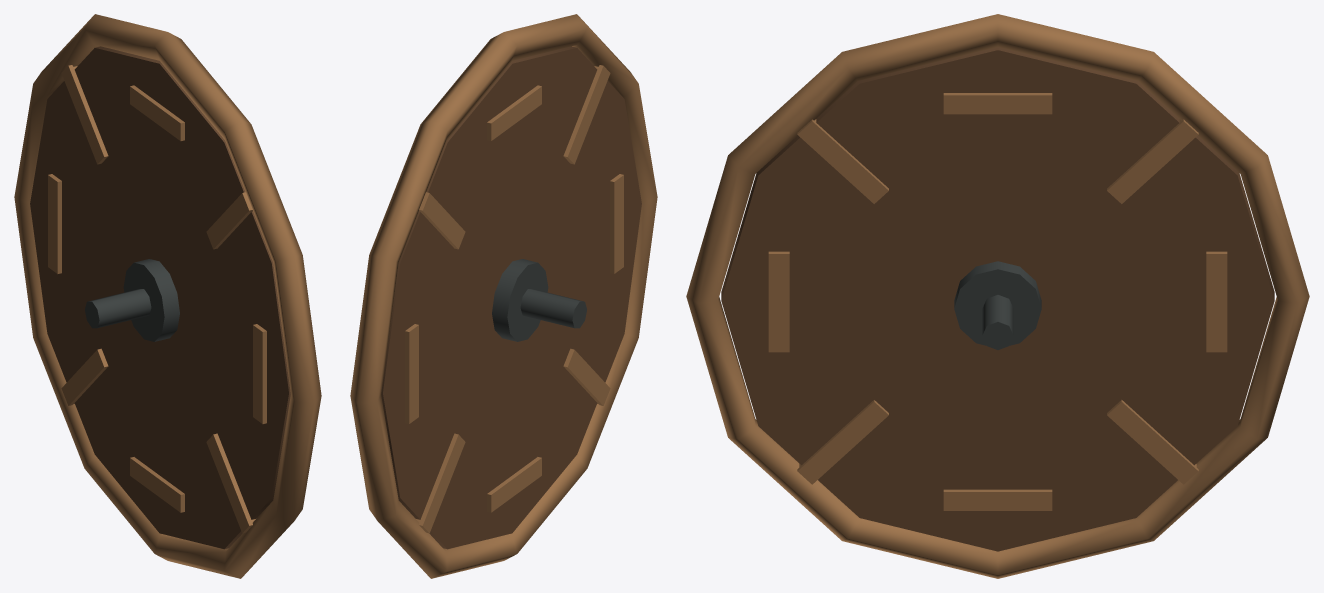
Rendered from water_wheel.glb.
The picture shows the model from 3 angles, left to right: view 1: azimuth 30°, elevation 25°; view 2: azimuth 150°, elevation 25°; view 3: azimuth 270°, elevation 25°; orthographic projection. The views are drawn at different scales.
Parts seen in each view (by area): view 1: water_wheel; view 2: water_wheel; view 3: water_wheel.
Boxes of the visible parts, x1,y1,x2,y2 form: water_wheel: (14, 14, 321, 578); water_wheel: (350, 14, 657, 578); water_wheel: (686, 14, 1309, 578).
Size of the model in its own units: 1.2 by 4 by 4.
Materials: 1 (1 with a texture image).
